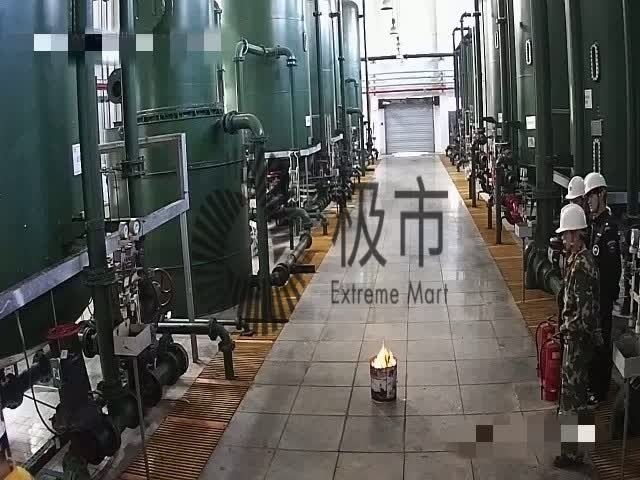fire: (370, 340, 398, 371)
